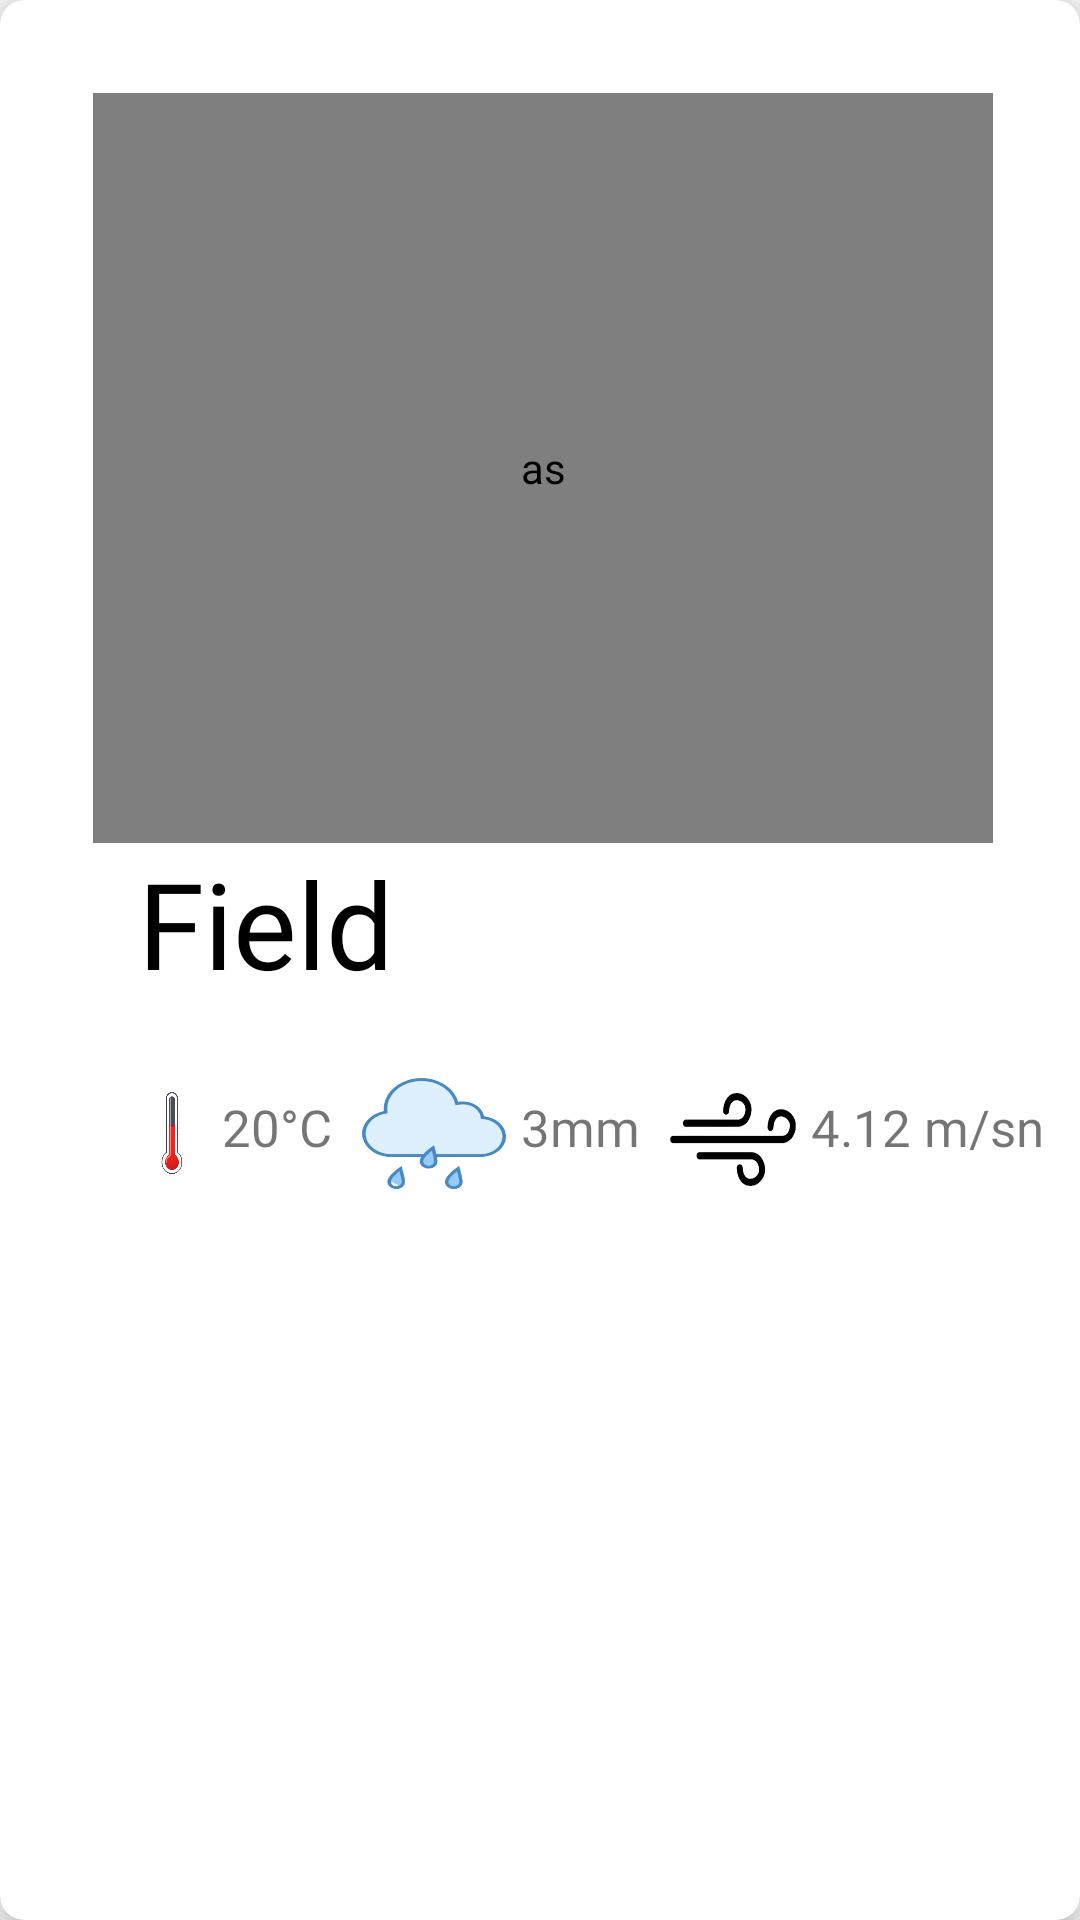

Named icons in this screenshot (1080 × 1920) and their centers, (x,y):
thermometer: (171,1133)
wind: (733,1139)
yamur: (434,1133)
